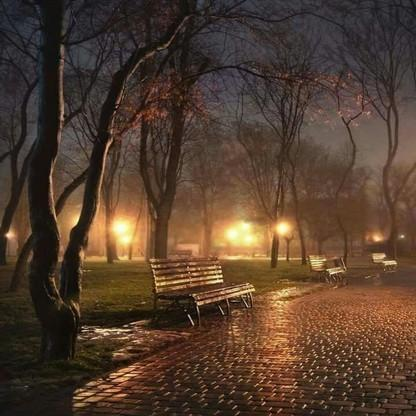obstacle: (146, 242, 256, 336), (302, 234, 349, 294), (363, 239, 399, 283)
